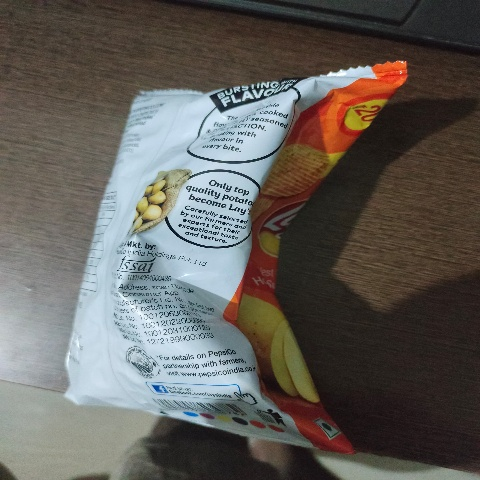lays_orange_pack: (70, 42, 418, 455)
